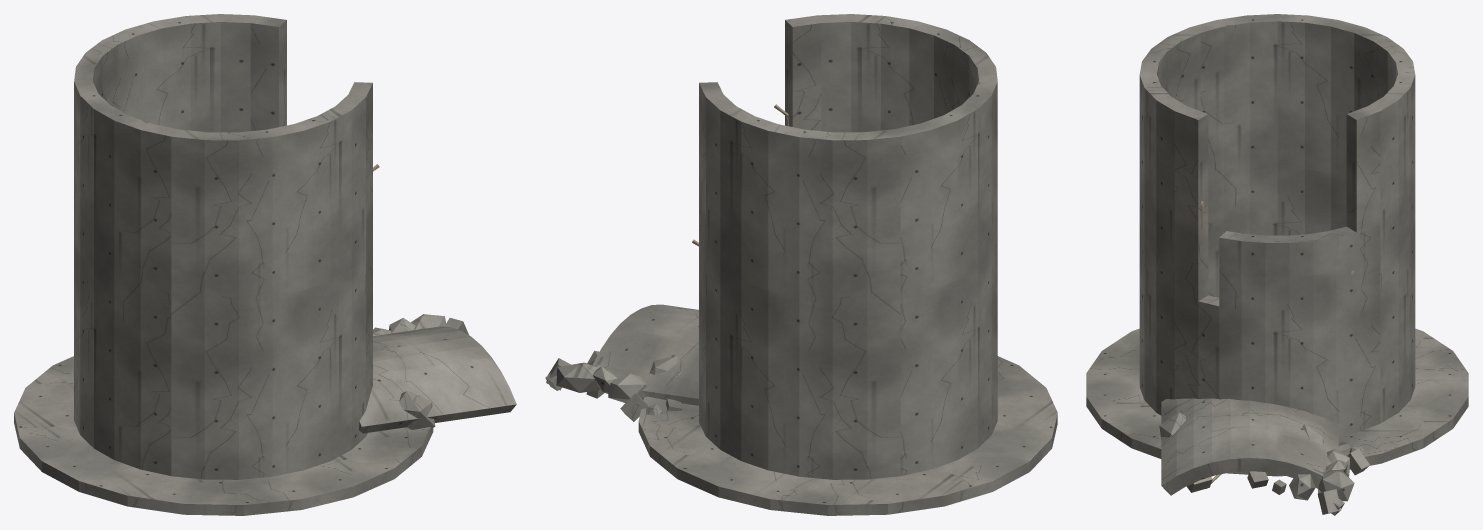
File: Silo_Ruin.fbx
3 renders of one model, left to right at view 1: azimuth 30°, elevation 25°; view 2: azimuth 150°, elevation 25°; view 3: azimuth 270°, elevation 25°, orthographic. The views are drawn at different scales.
Visible parts, largest first — view 1: Silo_Ruin; view 2: Silo_Ruin; view 3: Silo_Ruin.
Boxes of the visible parts, x1,y1,x2,y2 form: Silo_Ruin: [14, 14, 516, 515]; Silo_Ruin: [545, 14, 1057, 515]; Silo_Ruin: [1086, 14, 1468, 515].
Size of the model in its own units: 7.01 by 5.21 by 5.54.
2 materials, 1 textured.
